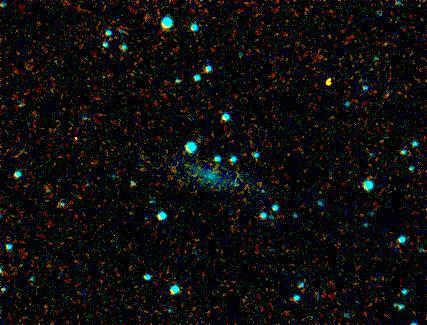star: (313, 66, 343, 96)
